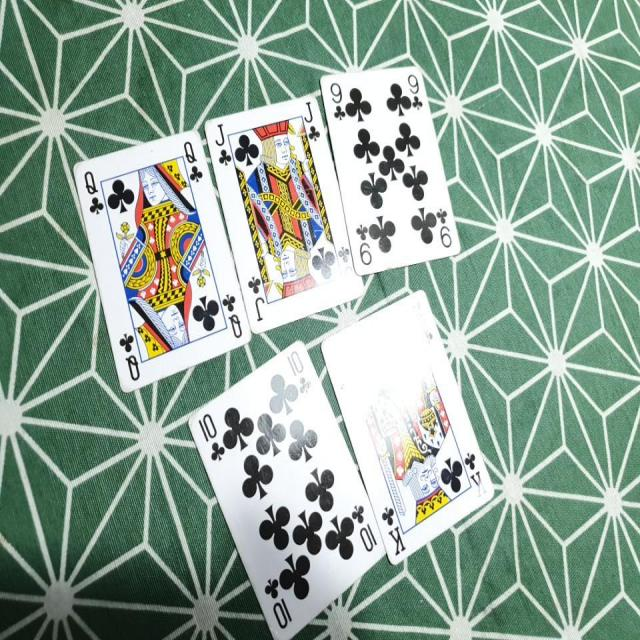10 Trefoils: (185, 339, 387, 640)
9 Trefoils: (318, 62, 462, 273)
J Trefoils: (203, 90, 366, 333)
K Trefoils: (319, 285, 495, 567)
Q Trefoils: (72, 129, 249, 393)
